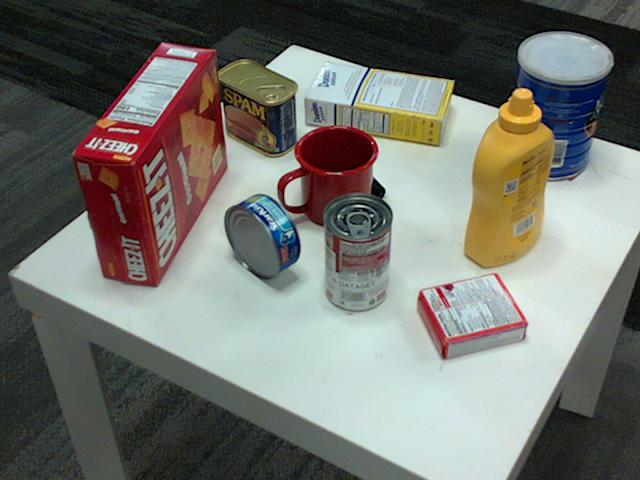cracker_box: (72, 40, 227, 283)
gelatin_box: (415, 273, 528, 359)
large_marker: (329, 137, 384, 199)
master_chef_can: (503, 32, 611, 180)
mug: (280, 122, 379, 225)
mustard_bottle: (463, 89, 554, 265)
potted_meat_can: (215, 61, 298, 156)
sugar_box: (305, 61, 456, 144)
tomato_soup_can: (323, 192, 393, 311)
tuna_fish_can: (225, 193, 301, 279)
